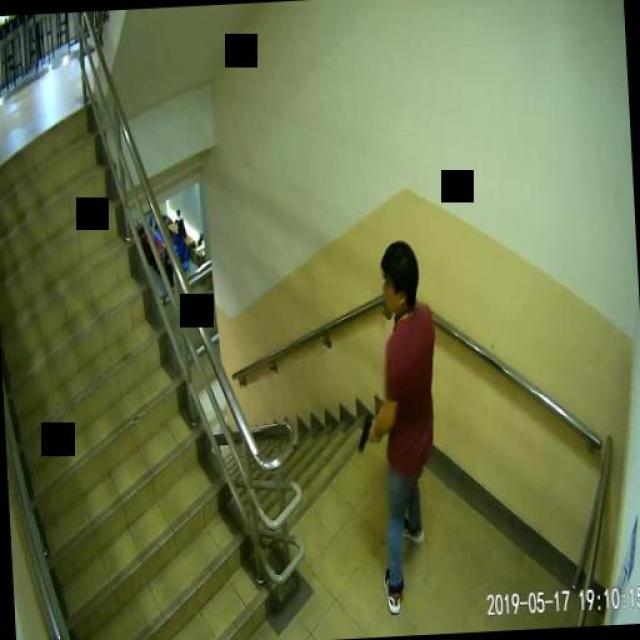gun: (355, 413, 377, 452)
